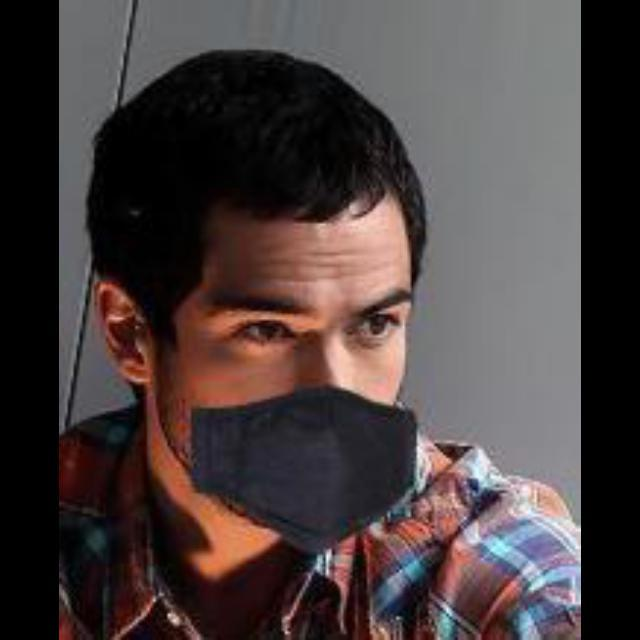suspicion: (81, 70, 462, 564)
